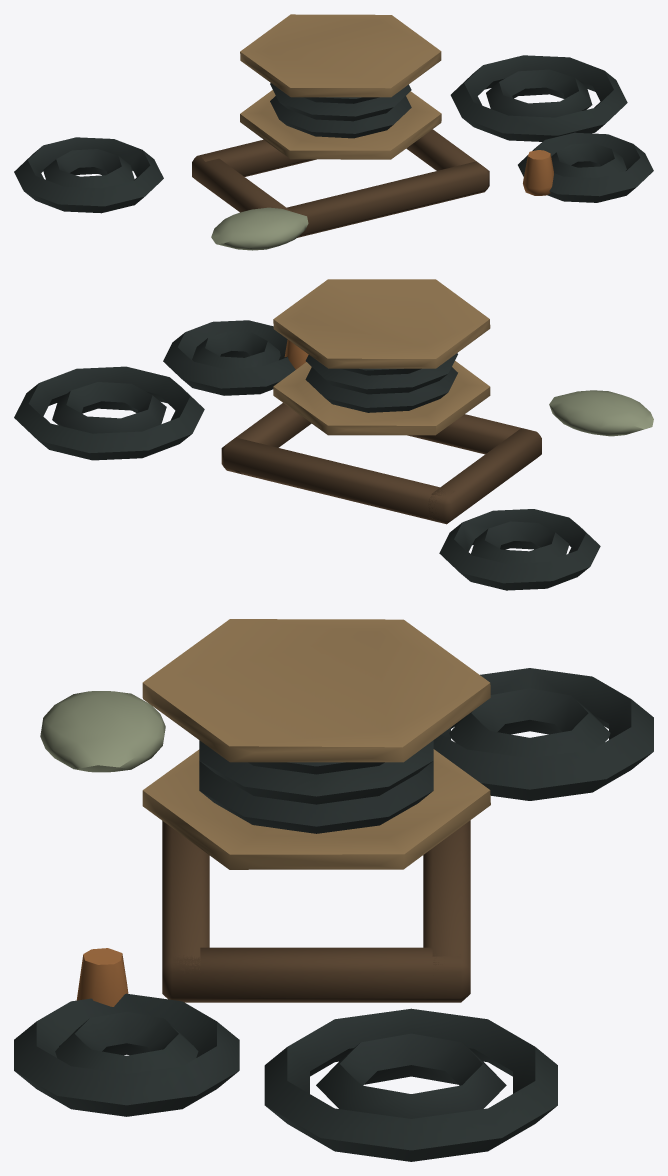
The model's file is hose_reel_b_lod1.glb.
3 views of the same model, one above another, from view 1: azimuth 30°, elevation 25°; view 2: azimuth 150°, elevation 25°; view 3: azimuth 270°, elevation 25° (orthographic). The views are drawn at different scales.
Parts seen in each view (by area): view 1: Surface.001; view 2: Surface.001; view 3: Surface.001.
Boxes of the visible parts, left/top/right/bottom form: Surface.001: left=14, top=14, right=653, bottom=250; Surface.001: left=14, top=279, right=653, bottom=590; Surface.001: left=14, top=619, right=653, bottom=1161.
Size of the model in its own units: 4.7 by 1.1 by 2.7.
